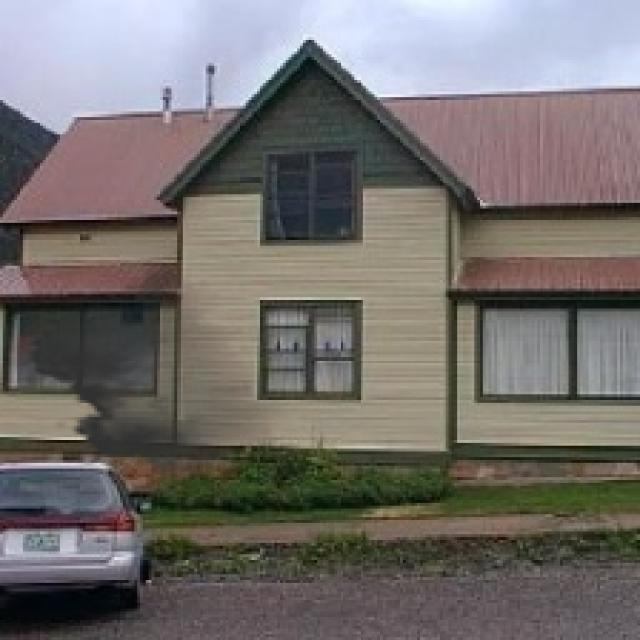Smoke: (17, 262, 297, 478)
